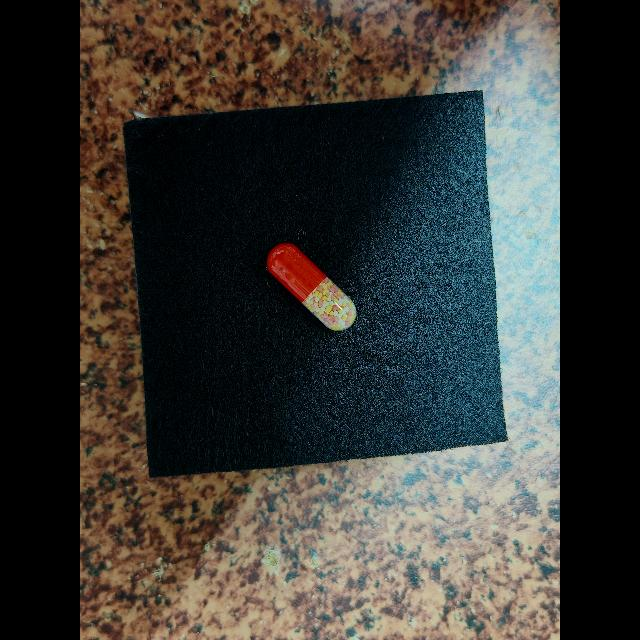Intact Capsule: (266, 243, 357, 331)
